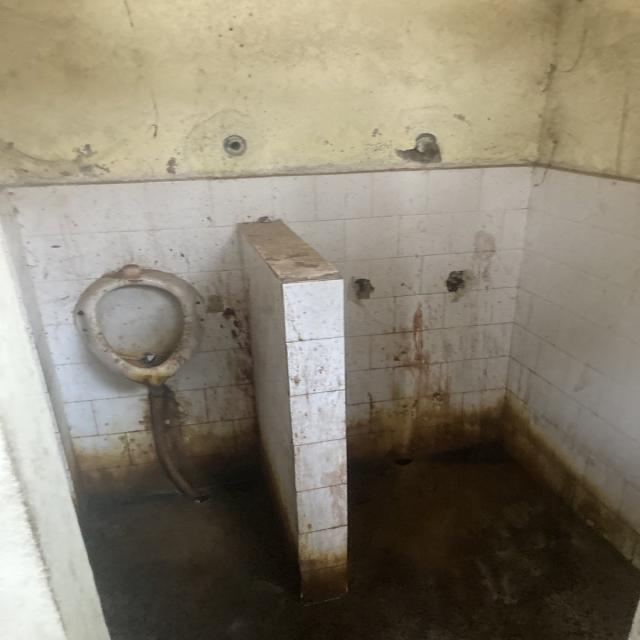dirty_floor: (3, 163, 638, 585)
